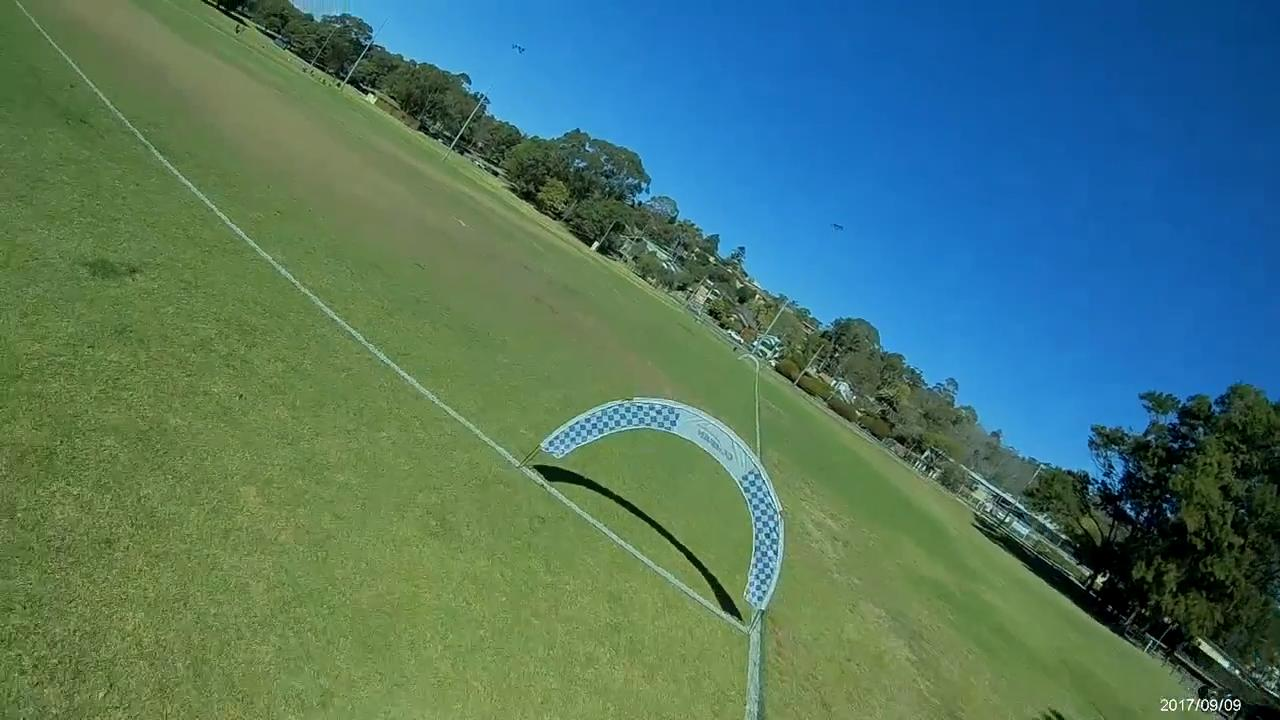gate: (535, 394, 783, 614)
